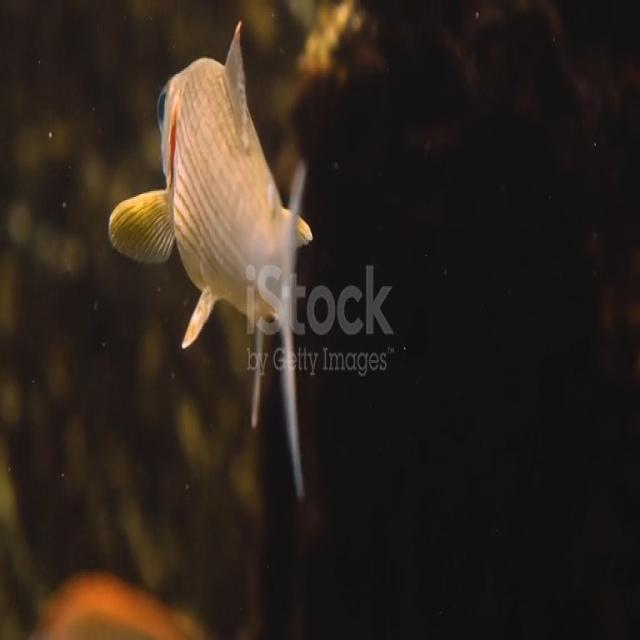fish: (110, 18, 314, 497)
